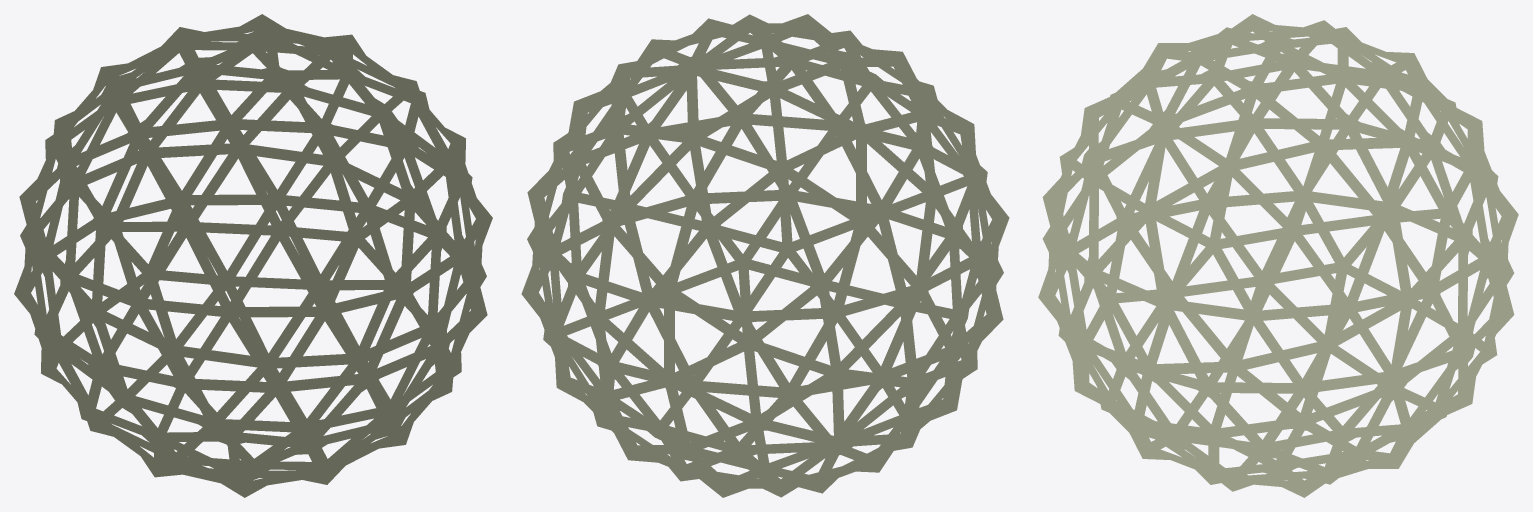
Rendered from ball.dae.
3 views of the same model, side by side, from view 1: azimuth 30°, elevation 25°; view 2: azimuth 150°, elevation 25°; view 3: azimuth 270°, elevation 25° (orthographic).
Parts seen in each view (by area): view 1: F3:GeoDome2-0; view 2: F3:GeoDome2-0; view 3: F3:GeoDome2-0.
Part boxes in pixels (x1,y1,x2,y2): F3:GeoDome2-0: (14, 14, 492, 497); F3:GeoDome2-0: (521, 14, 1009, 497); F3:GeoDome2-0: (1038, 14, 1518, 497).
Size of the model in its own units: 546 by 558 by 548.
